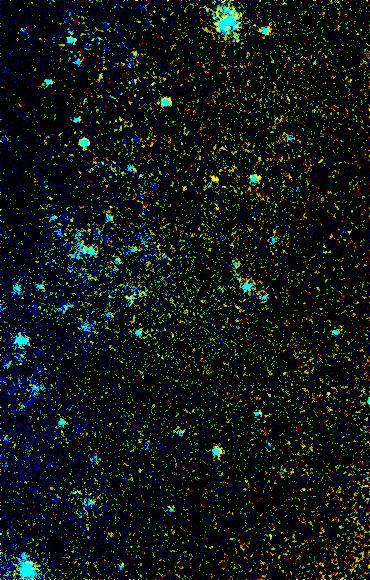star: (202, 166, 232, 196)
